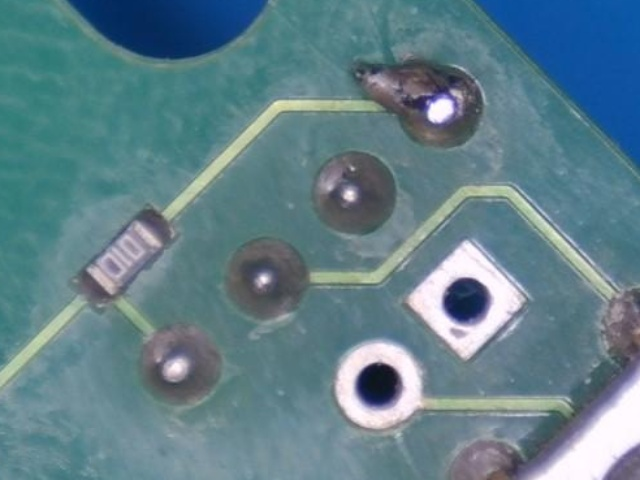pcb_defect: (350, 55, 485, 148)
